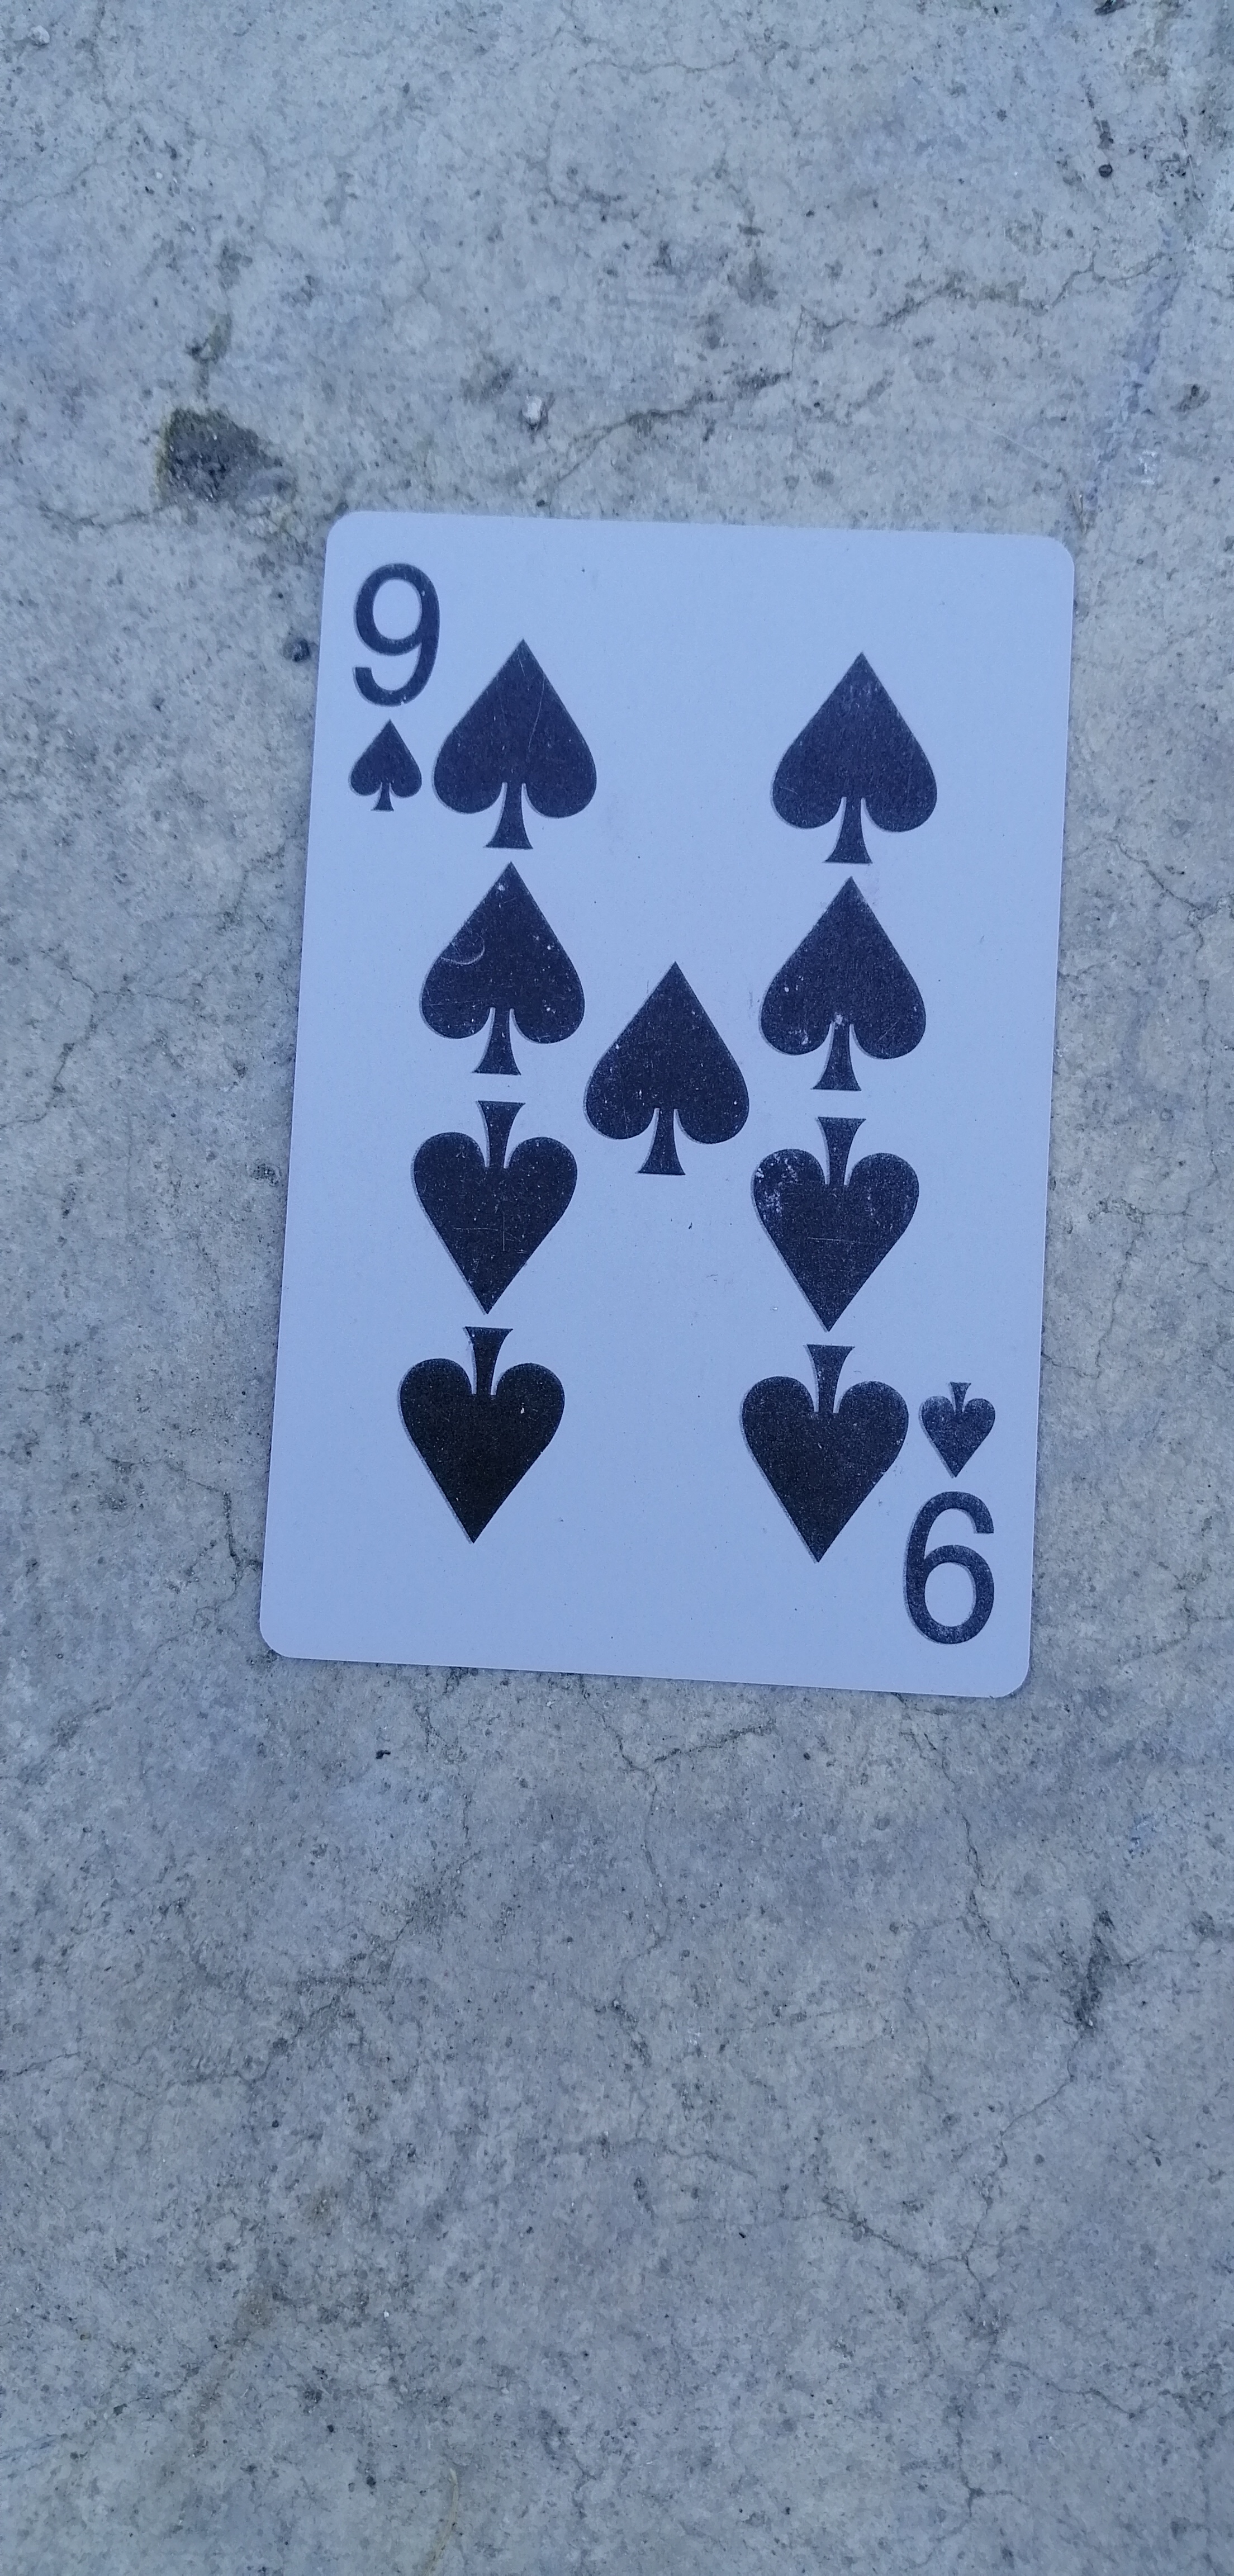nine: (263, 481, 1048, 1720)
